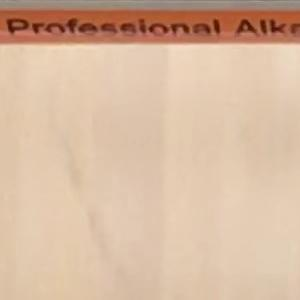keyword: (227, 10, 294, 43)
